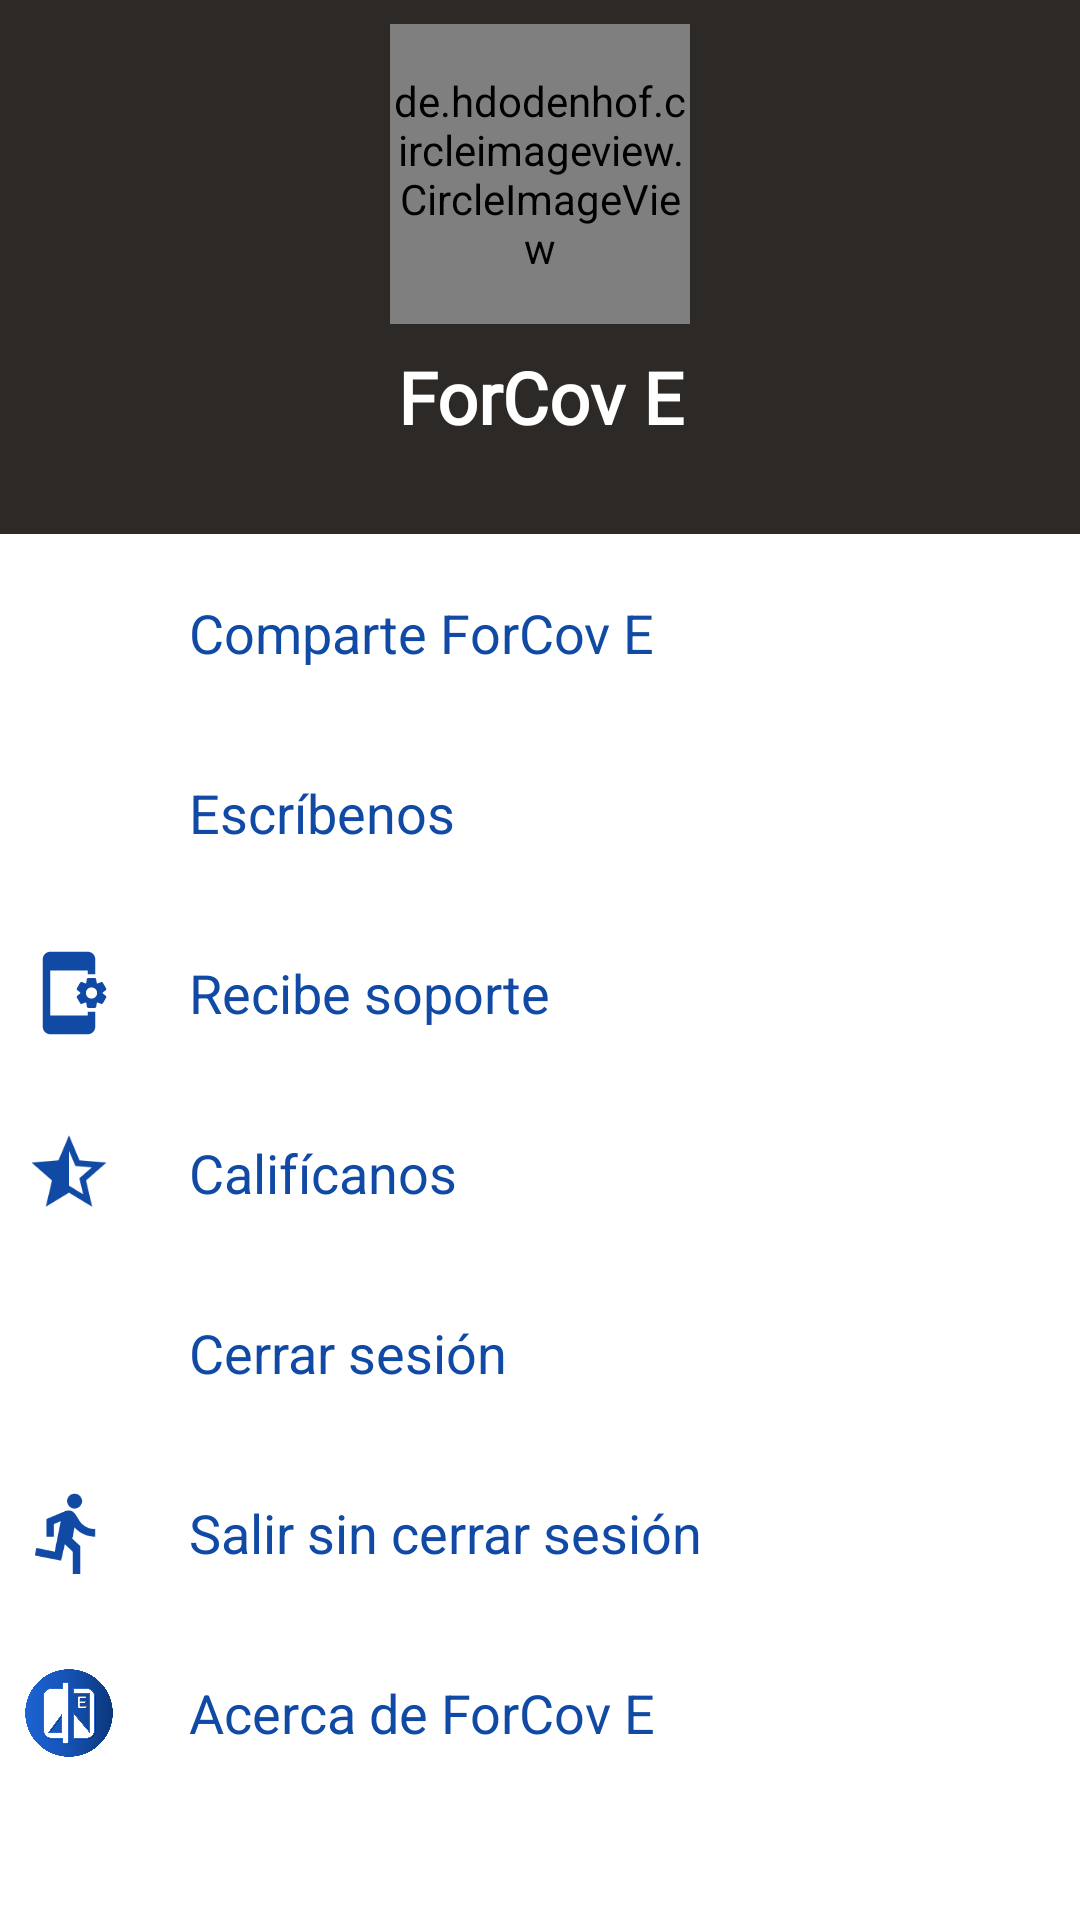

Icon bounding boxes for this 1080w x 1920h phone screenshot, format Rect(x1, y1, x2, y2):
califica: Rect(32, 1136, 106, 1207)
close: Rect(35, 1493, 96, 1574)
support: Rect(42, 951, 107, 1035)
